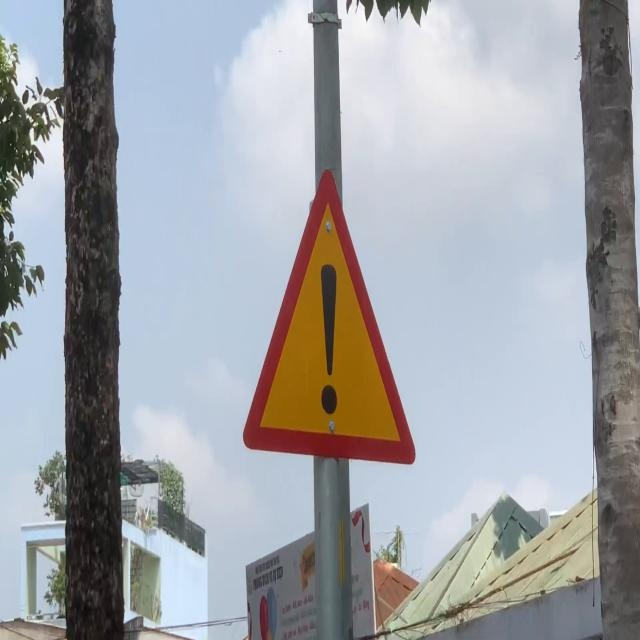bien_nguy_hiem: (239, 164, 420, 472)
